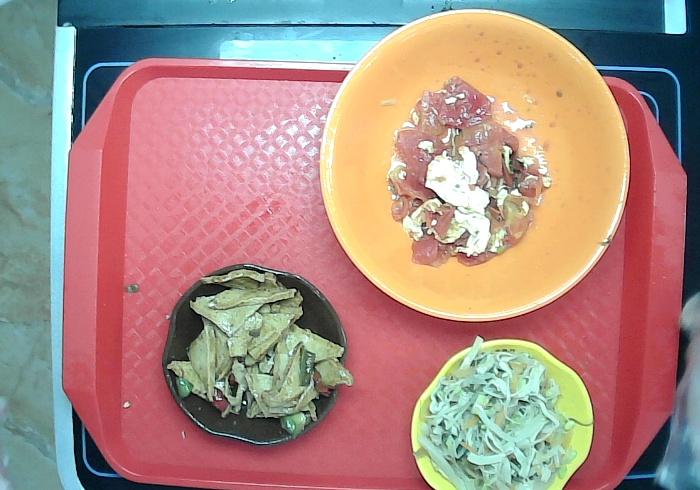YKMZ-Huang_Se_Ao_Bian_Wan: (407, 335, 597, 490)
YKMZ-Ju_Se_Tang_Wan: (316, 7, 633, 325)
YKMZ-Ka_Fei_Ao_Bian_Wan: (160, 259, 351, 447)
